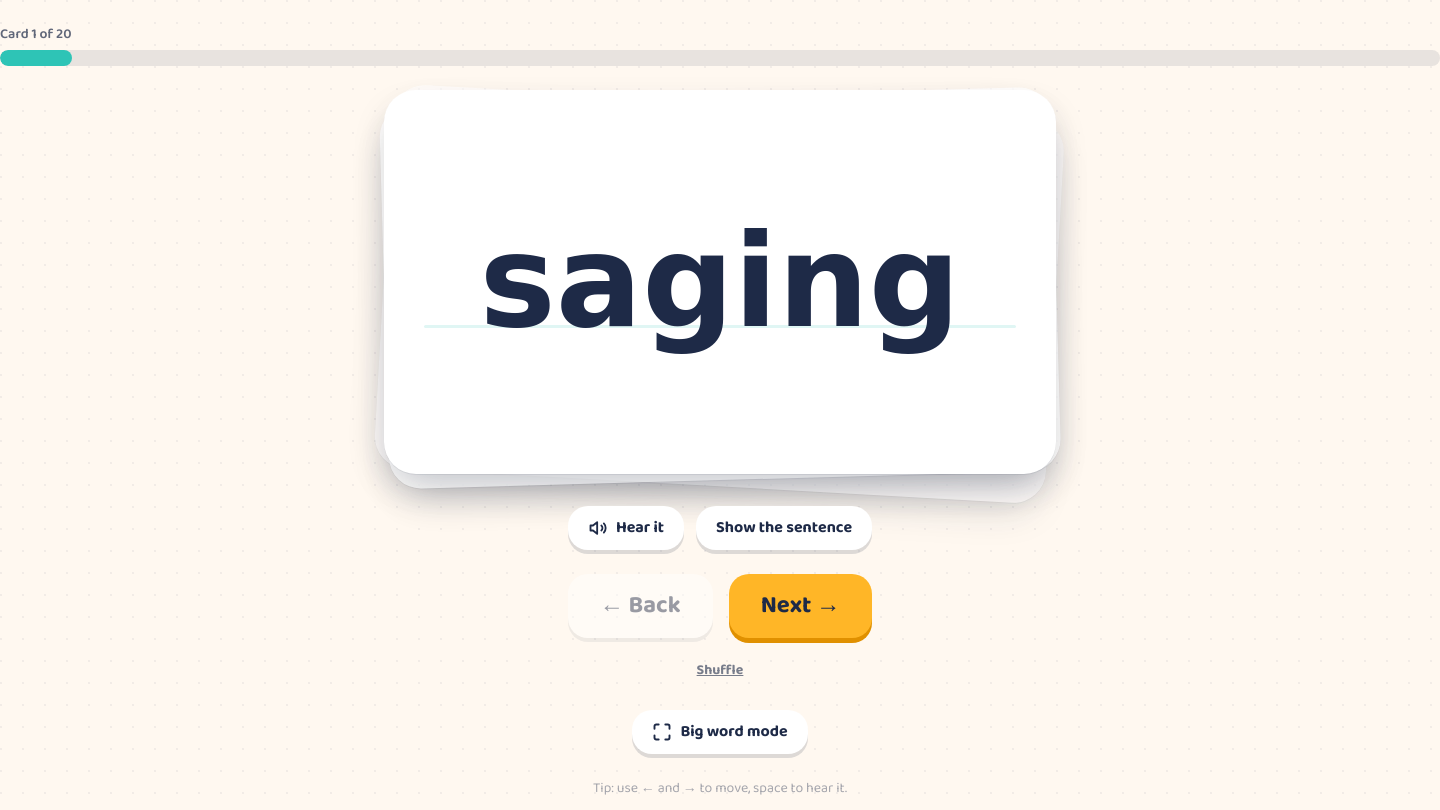
Scenario: English keeps the bare screen › keeps the reveal for a language that needs it
Click the button "Big word mode": {"x": 720, "y": 732} [632,710,808,754]
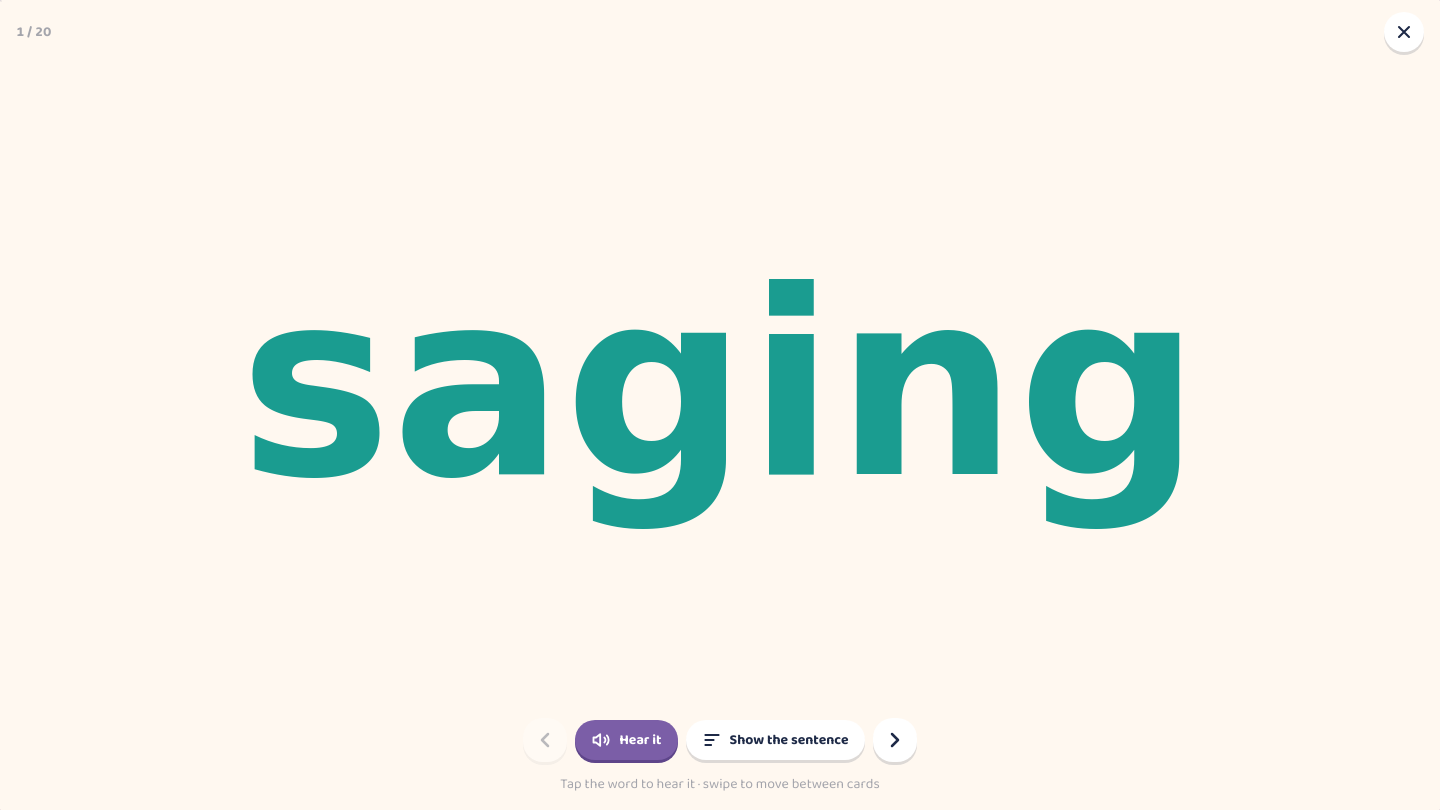
Check: the button named "Next card" is shown, box [872,718,916,762]
